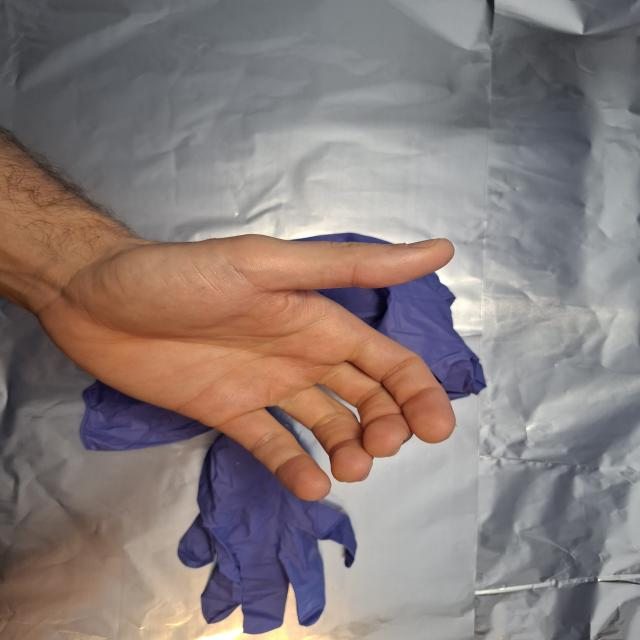glove_off: (32, 234, 458, 503)
